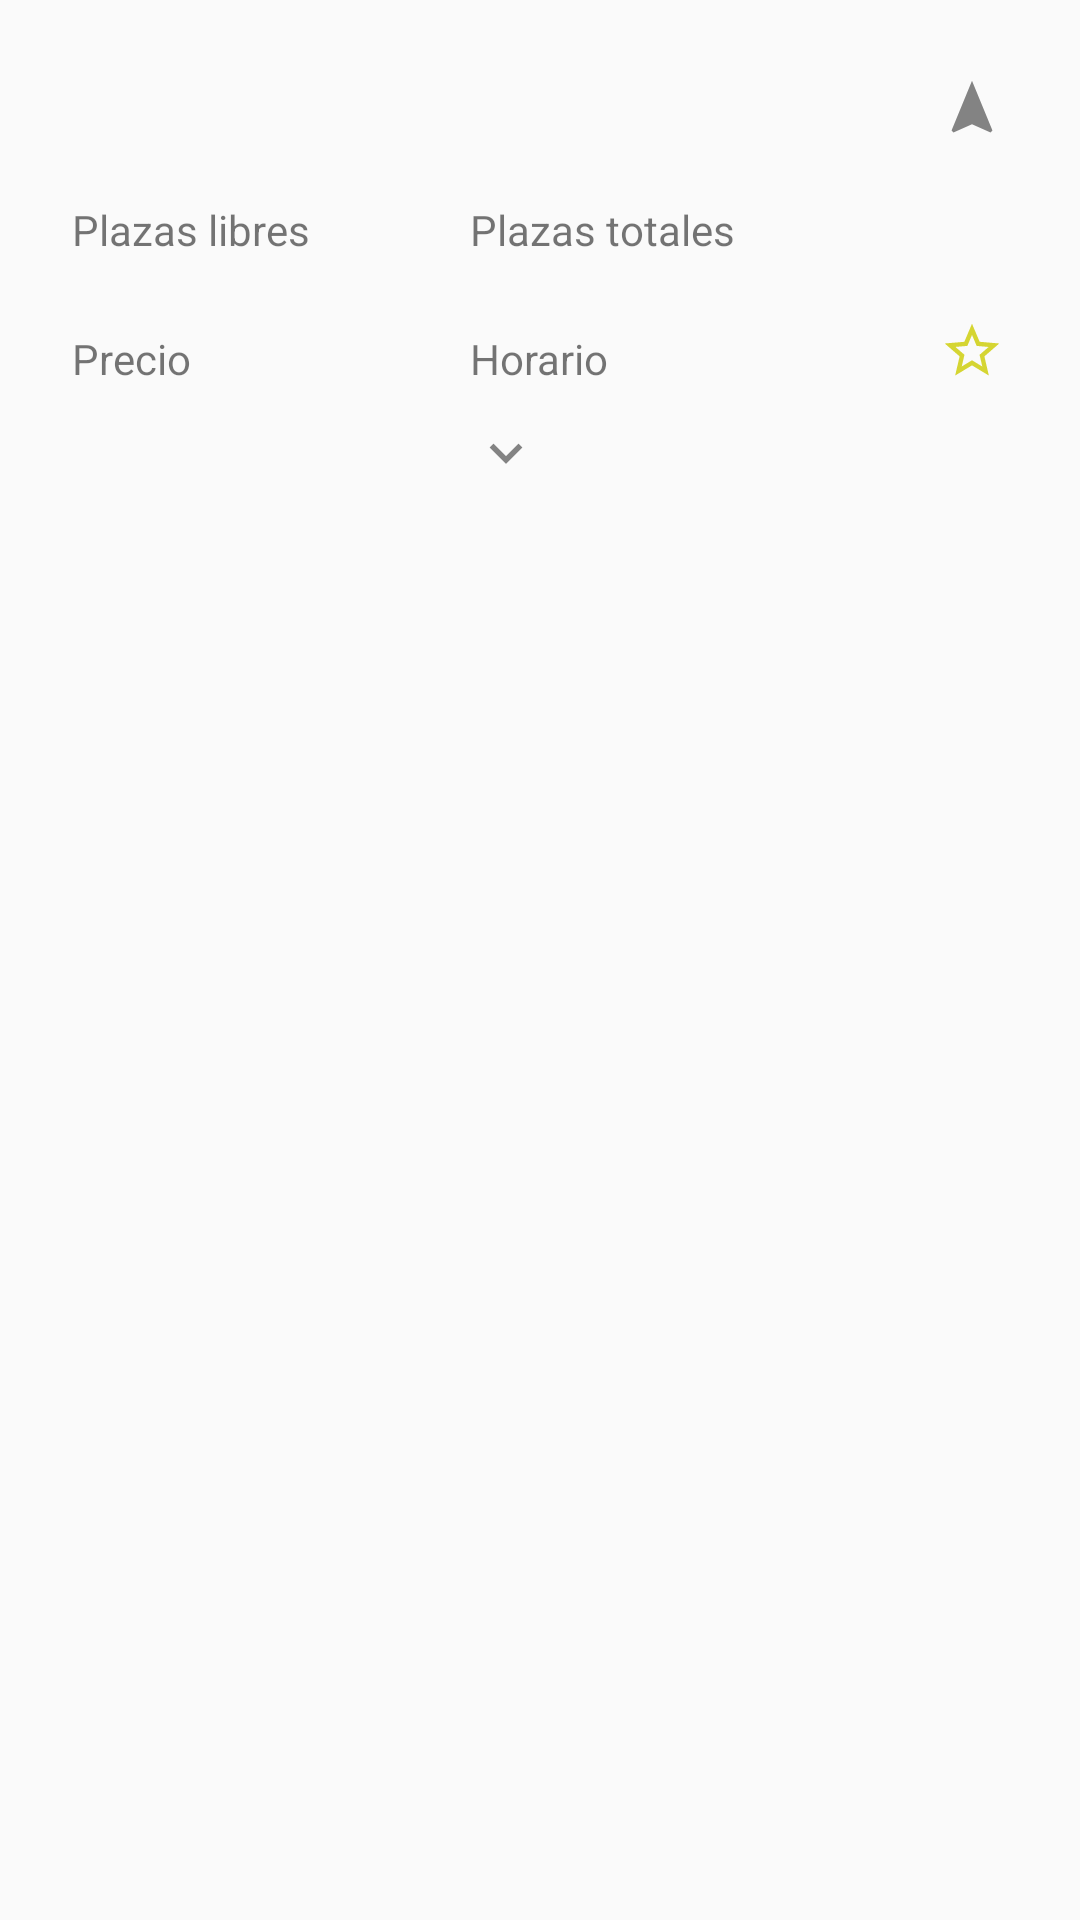

Icons on this 1080×1920 Android screen, each with its box as (x1, y1, x2, y2):
Button to select a parking as a favorite: (945, 324, 999, 376)
Desplegar más información: (490, 444, 522, 464)
navigation: (951, 81, 993, 133)
